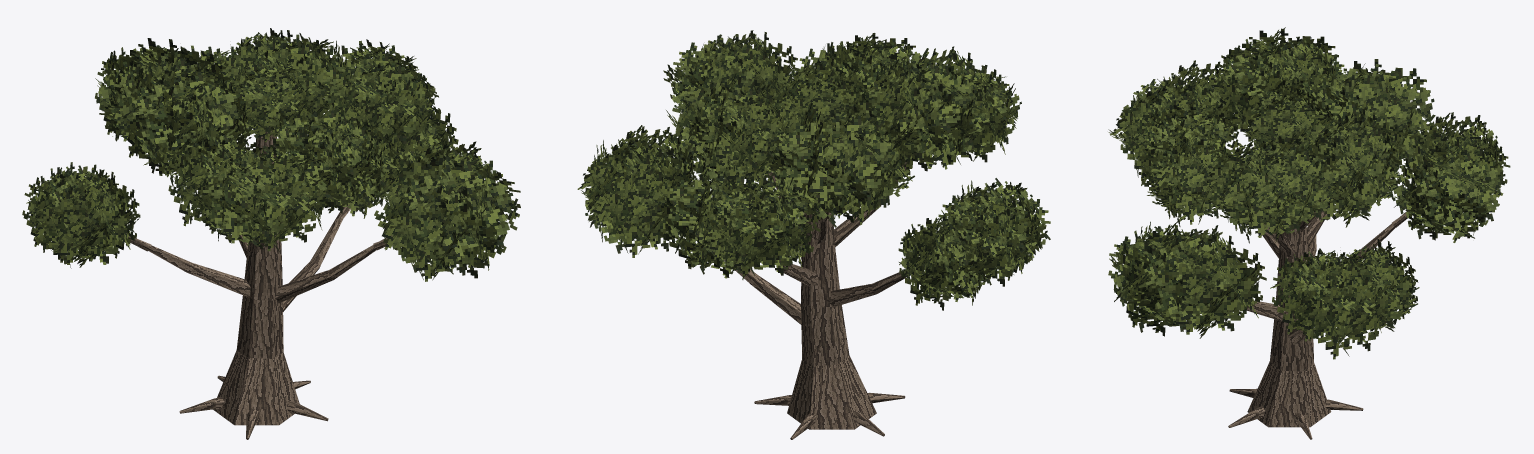
The model's file is TREE_Oak_C_LOD1.glb.
3 renders of one model, left to right at view 1: azimuth 30°, elevation 25°; view 2: azimuth 150°, elevation 25°; view 3: azimuth 270°, elevation 25°, orthographic. The views are drawn at different scales.
Visible parts, largest first — view 1: TREE_Oak_C_LOD1__Card, TREE_Oak_C_LOD1__Bark, TREE_Oak_C_LOD1__Foliage; view 2: TREE_Oak_C_LOD1__Card, TREE_Oak_C_LOD1__Bark, TREE_Oak_C_LOD1__Foliage; view 3: TREE_Oak_C_LOD1__Card, TREE_Oak_C_LOD1__Bark, TREE_Oak_C_LOD1__Foliage.
Boxes of the visible parts, x1,y1,x2,y2 form: TREE_Oak_C_LOD1__Card: (22,28,520,281); TREE_Oak_C_LOD1__Bark: (126,127,399,439); TREE_Oak_C_LOD1__Foliage: (54,75,465,245); TREE_Oak_C_LOD1__Card: (577,30,1050,310); TREE_Oak_C_LOD1__Bark: (664,162,906,439); TREE_Oak_C_LOD1__Foliage: (615,62,1000,274); TREE_Oak_C_LOD1__Card: (1108,27,1510,359); TREE_Oak_C_LOD1__Bark: (1228,205,1407,439); TREE_Oak_C_LOD1__Foliage: (1145,68,1479,321).
Bounding box in the file's own units: 10.74 × 8.18 × 9.2.
3 materials, 3 textured.
